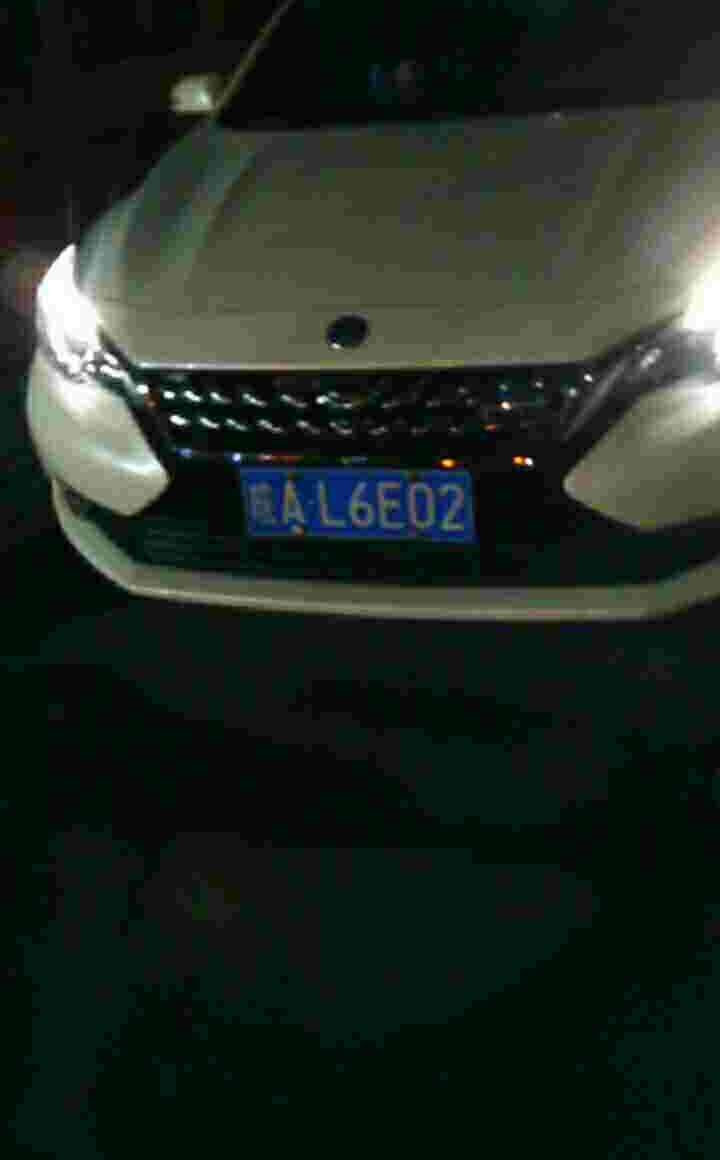plate: (238, 462, 481, 546)
